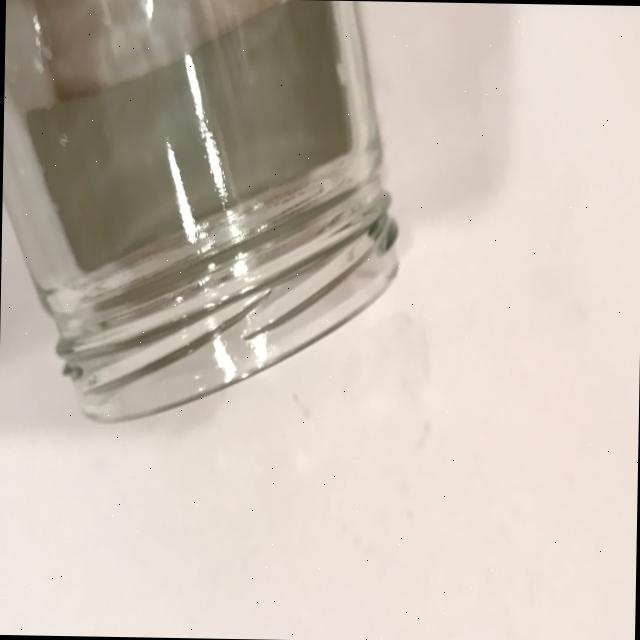glass: (0, 0, 405, 429)
